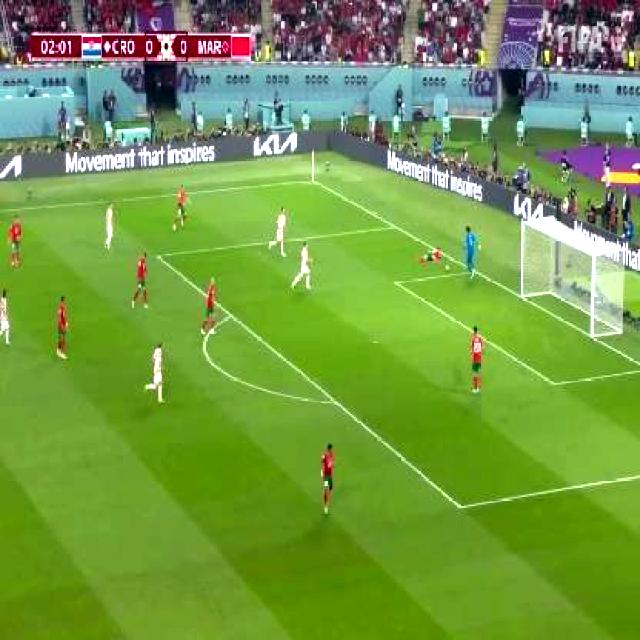bigarea_bottom_inner: (451, 494, 469, 518)
bigarea_top_inner: (149, 246, 163, 265)
bigarea_top_outter: (386, 217, 400, 234)
bottom_arc_area_intersection: (328, 391, 343, 411)
corner: (303, 174, 319, 186)
smallarea_bottom_inner: (543, 370, 563, 396)
smallarea_top_inner: (386, 272, 403, 292)
smallarea_top_outter: (466, 263, 479, 280)
top_arc_area_intersection: (221, 303, 237, 323)
